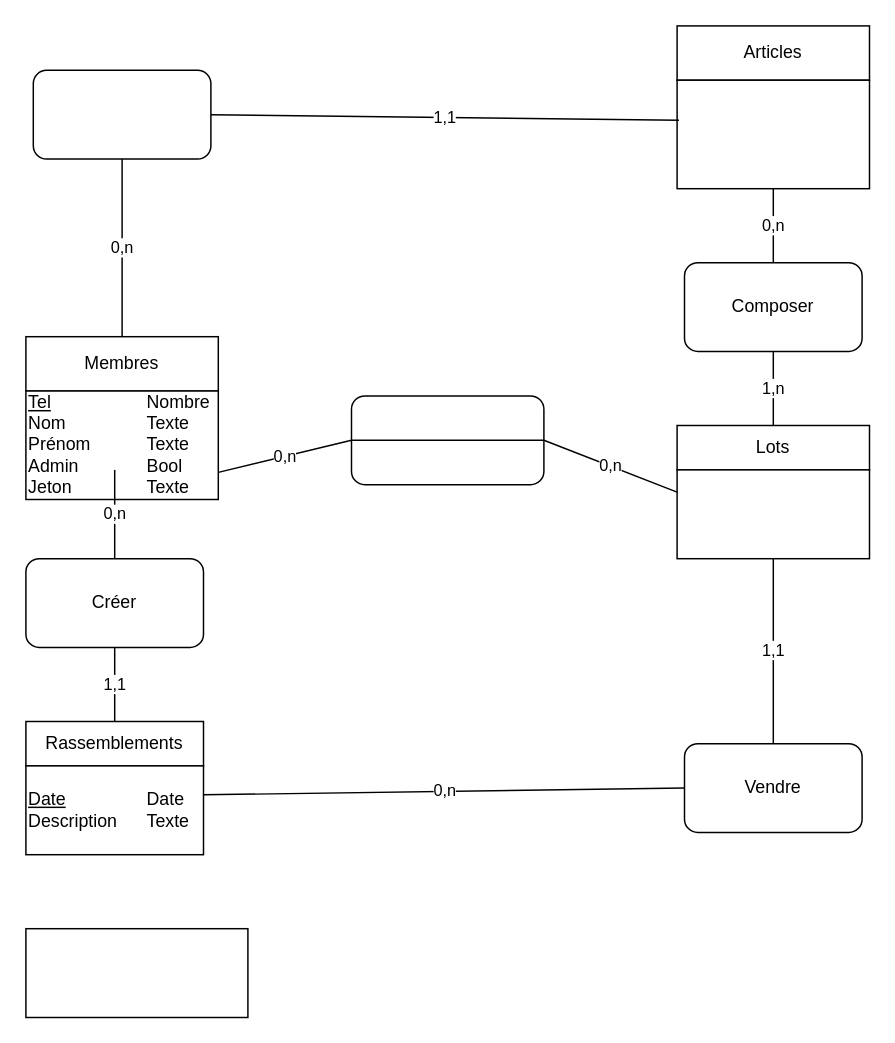
The diagram is 895 pixels wide and 1043 high, and some of its shapes have lost their labels. Here are the shapes that lost their labels. From the top down, the centre of each, then its label:
At pixel 121 114: "Produire".
At pixel 773 134: "Titre T exte Description Texte Prix Nombre Quantité Nombre Image IMG".
At pixel 447 439: "Commander Nombre Nombre".
At pixel 773 513: "Quantité Nombre".
At pixel 136 972: "Projet: Fiame Desk Auteur: Christopher Pardo Version: 2.1".
